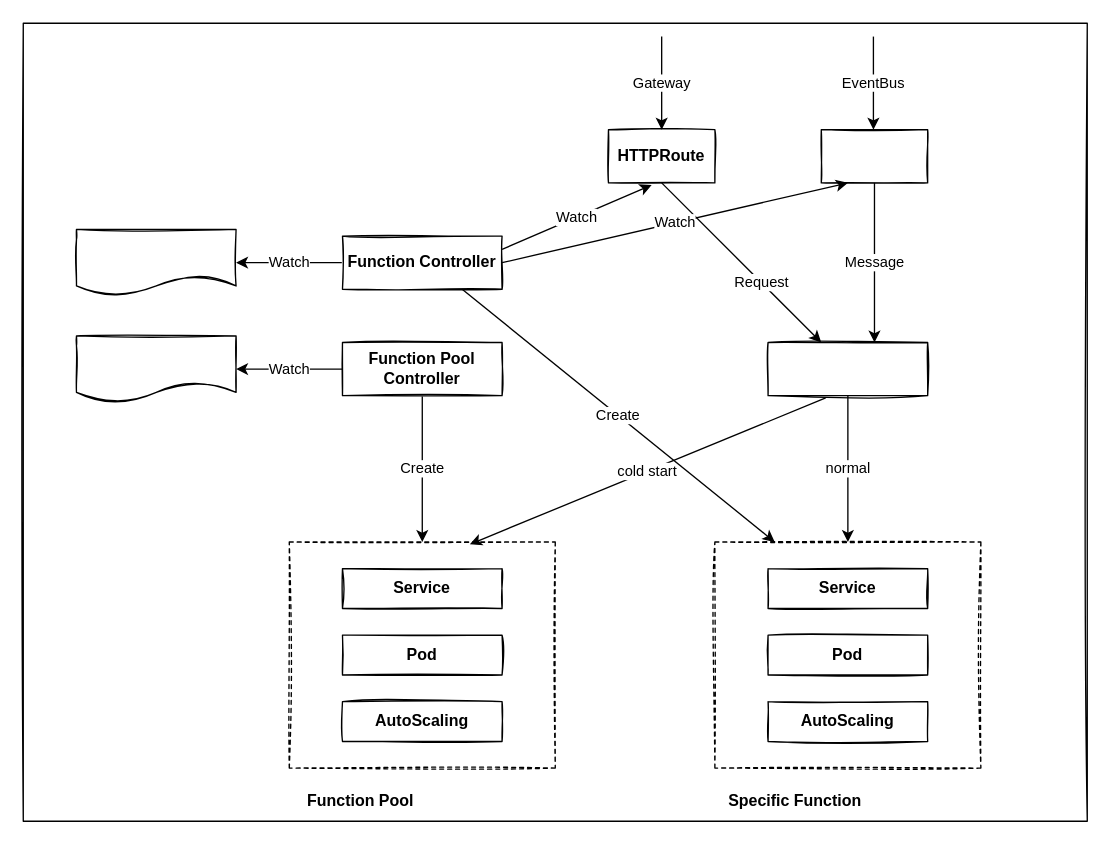
The diagram is 1111 pixels wide and 845 high, and some of its shapes have lost their labels. The shapes that lost their labels are listed below. From the top down, each one's centre as x and y in pixels, then its label:
point 874,155: Trigger
point 155,262: Function CRDs
point 155,368: FunctionPool CRDs
point 847,368: Dispatcher
